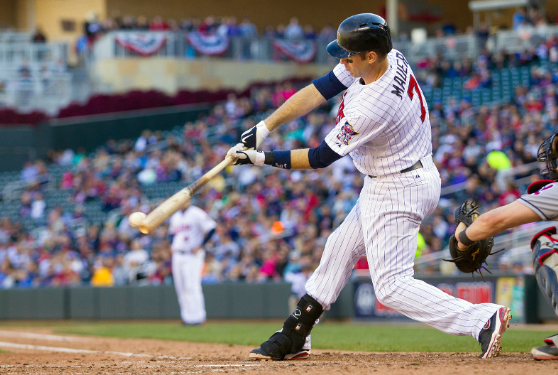ball: (128, 211, 147, 229)
